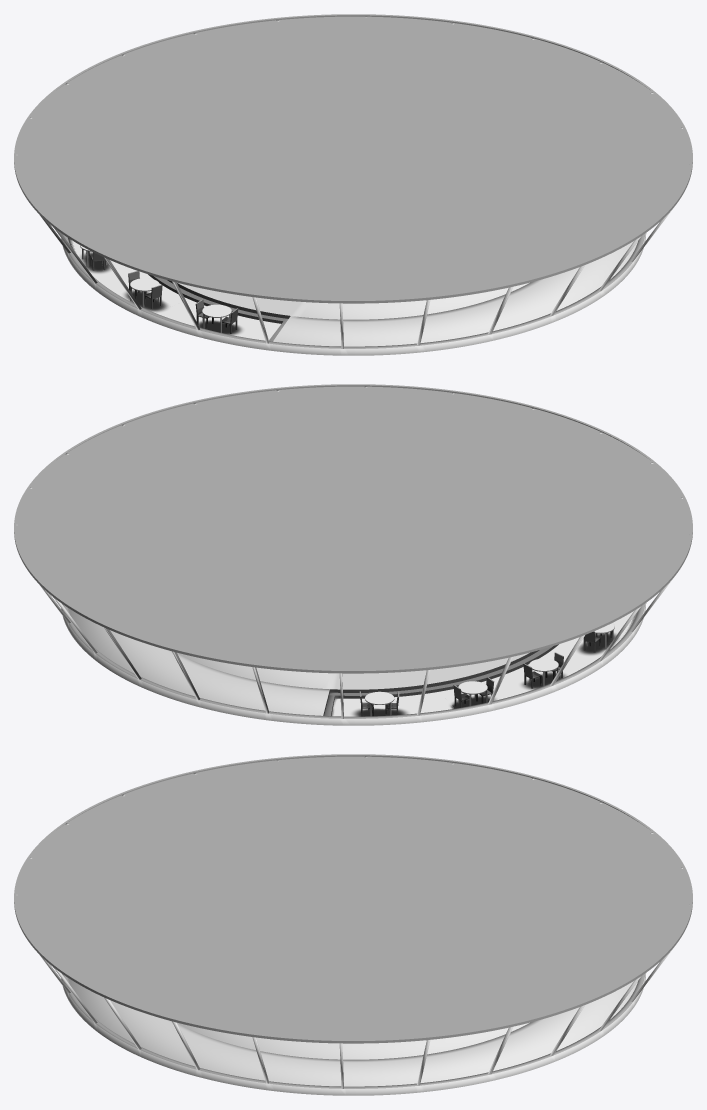
The model's file is GEM.glb.
The picture shows the model from 3 angles, top to bottom: view 1: azimuth 30°, elevation 25°; view 2: azimuth 150°, elevation 25°; view 3: azimuth 270°, elevation 25°; orthographic projection.
Visible parts, largest first — view 1: Roof, Main, Inset Floor, Support Beams, Chair.021, Table A2.009; view 2: Roof, Main, Inset Floor, Support Beams, Table A2.009, Chair.021; view 3: Roof, Main, Support Beams.
Part boxes in pixels (bbox=[...]): Roof: bbox=[14, 14, 692, 303]; Main: bbox=[61, 233, 646, 355]; Inset Floor: bbox=[68, 238, 280, 340]; Support Beams: bbox=[16, 16, 682, 348]; Chair.021: bbox=[86, 251, 238, 333]; Table A2.009: bbox=[80, 245, 231, 332]; Roof: bbox=[14, 384, 692, 673]; Main: bbox=[61, 603, 646, 725]; Inset Floor: bbox=[331, 611, 637, 716]; Support Beams: bbox=[16, 386, 682, 718]; Table A2.009: bbox=[365, 623, 614, 716]; Chair.021: bbox=[359, 631, 611, 716]; Roof: bbox=[14, 754, 692, 1043]; Main: bbox=[61, 973, 645, 1095]; Support Beams: bbox=[16, 756, 682, 1088].
Size of the model in its own units: 31.42 by 3.8 by 31.42.
Materials: 18 (7 with a texture image).
